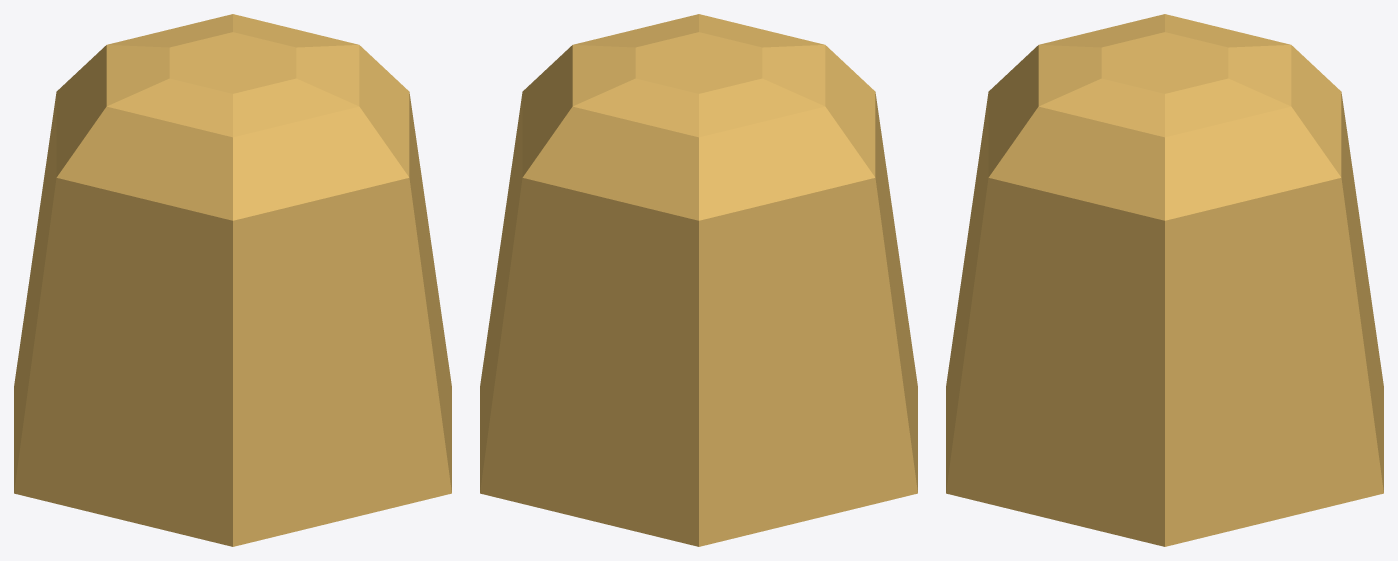
Rendered from sloped_tile.glb.
3 views of the same model, side by side, from view 1: azimuth 30°, elevation 25°; view 2: azimuth 150°, elevation 25°; view 3: azimuth 270°, elevation 25° (orthographic).
Parts seen in each view (by area): view 1: Cylinder.009; view 2: Cylinder.009; view 3: Cylinder.009.
Boxes of the visible parts, x1=… form: Cylinder.009: x1=14, y1=14, x2=451, y2=546; Cylinder.009: x1=480, y1=14, x2=917, y2=546; Cylinder.009: x1=946, y1=14, x2=1383, y2=546.
Bounding box in the file's own units: 3.46 × 2.85 × 3.
